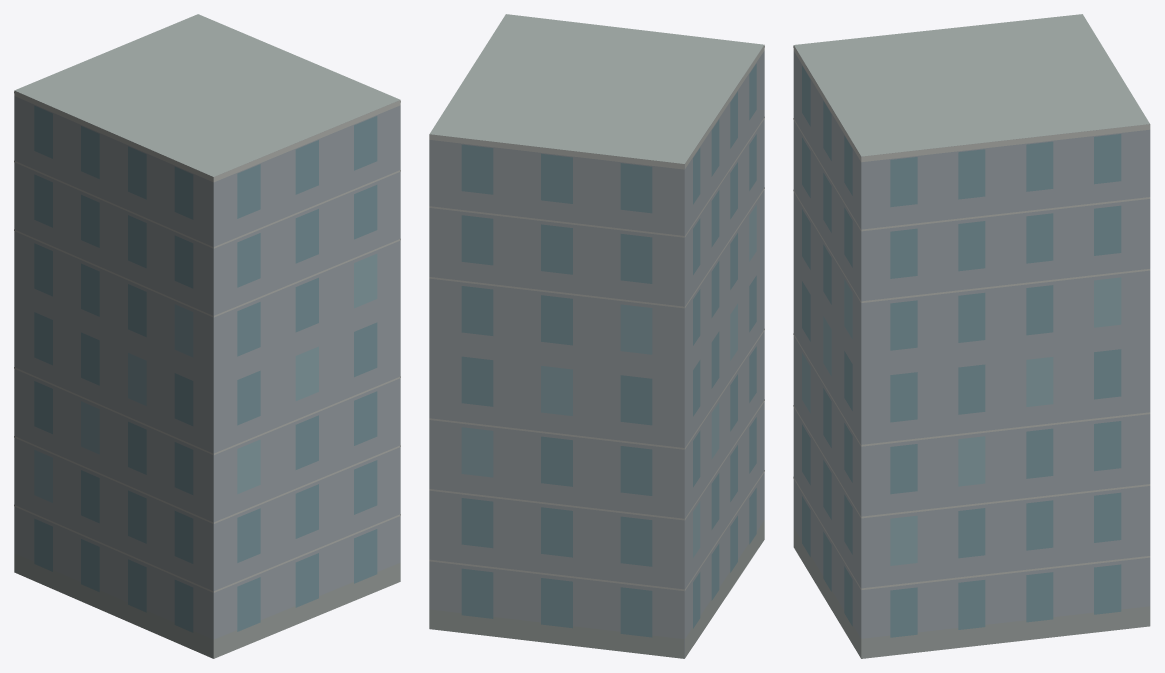
File: survey-upis-32665193.glb
3 views of the same model, side by side, from view 1: azimuth 30°, elevation 25°; view 2: azimuth 150°, elevation 25°; view 3: azimuth 270°, elevation 25° (orthographic). The views are drawn at different scales.
Visible parts, largest first — view 1: survey-upis-32665193.tmp; view 2: survey-upis-32665193.tmp; view 3: survey-upis-32665193.tmp.
Boxes of the visible parts, x1,y1,x2,y2 form: survey-upis-32665193.tmp: (14,14,400,658); survey-upis-32665193.tmp: (429,14,764,658); survey-upis-32665193.tmp: (793,14,1150,658).
Bounding box in the file's own units: 13.17 × 21.6 × 13.92.
